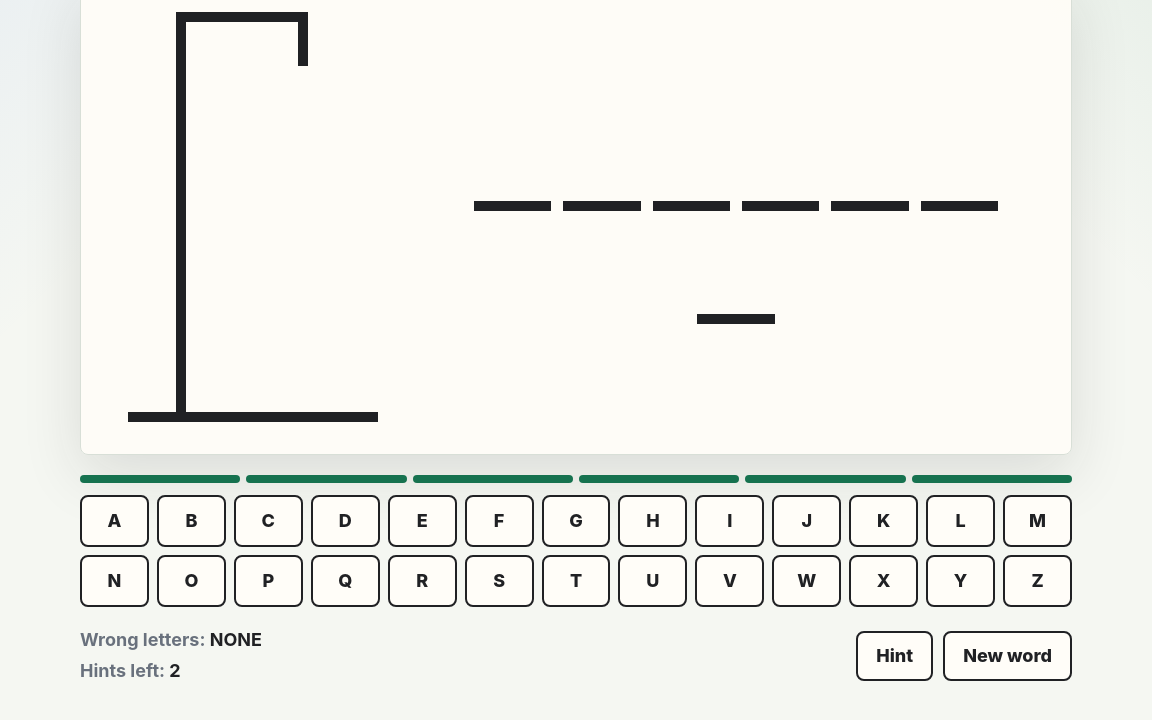
App › guessing a letter marks it on the keyboard
(page scrolled)
Click the button named "Letter a". click: (114, 522)
box: [80, 496, 149, 548]
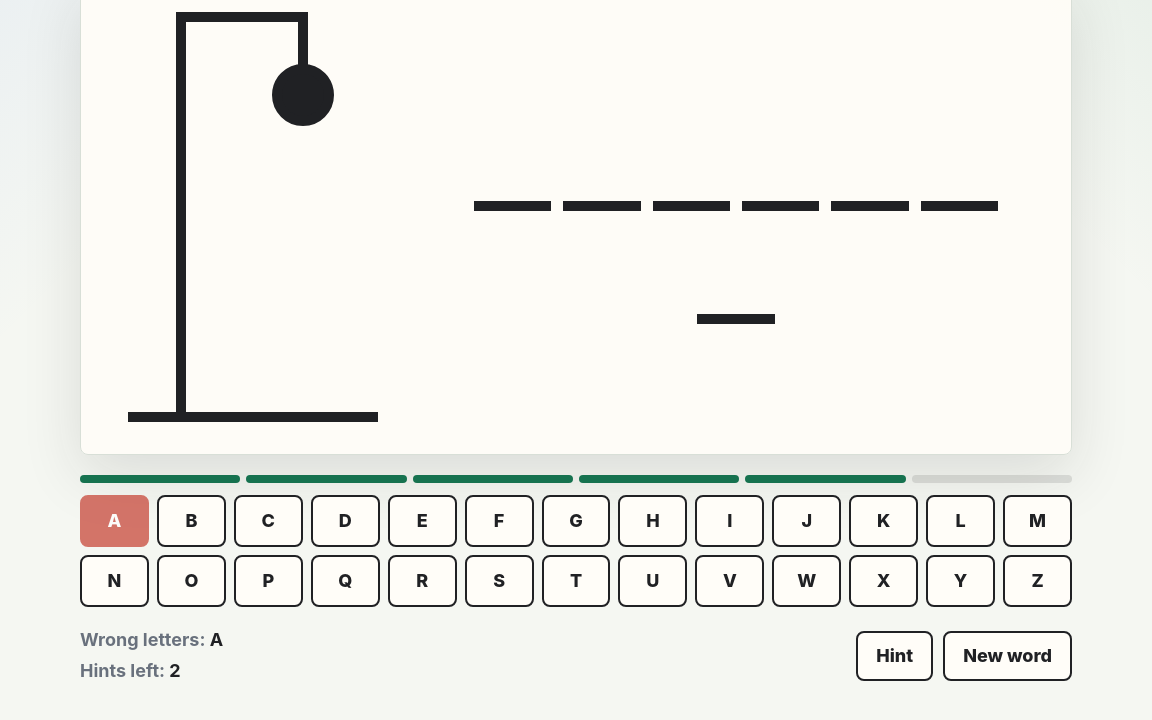
Now the button named "Letter a" is disabled, box [80, 496, 149, 548]
